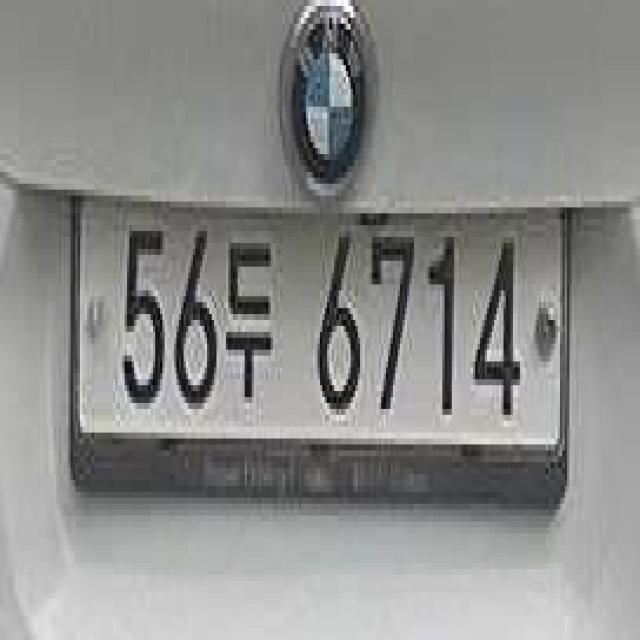illegal_plate: (74, 202, 571, 538)
